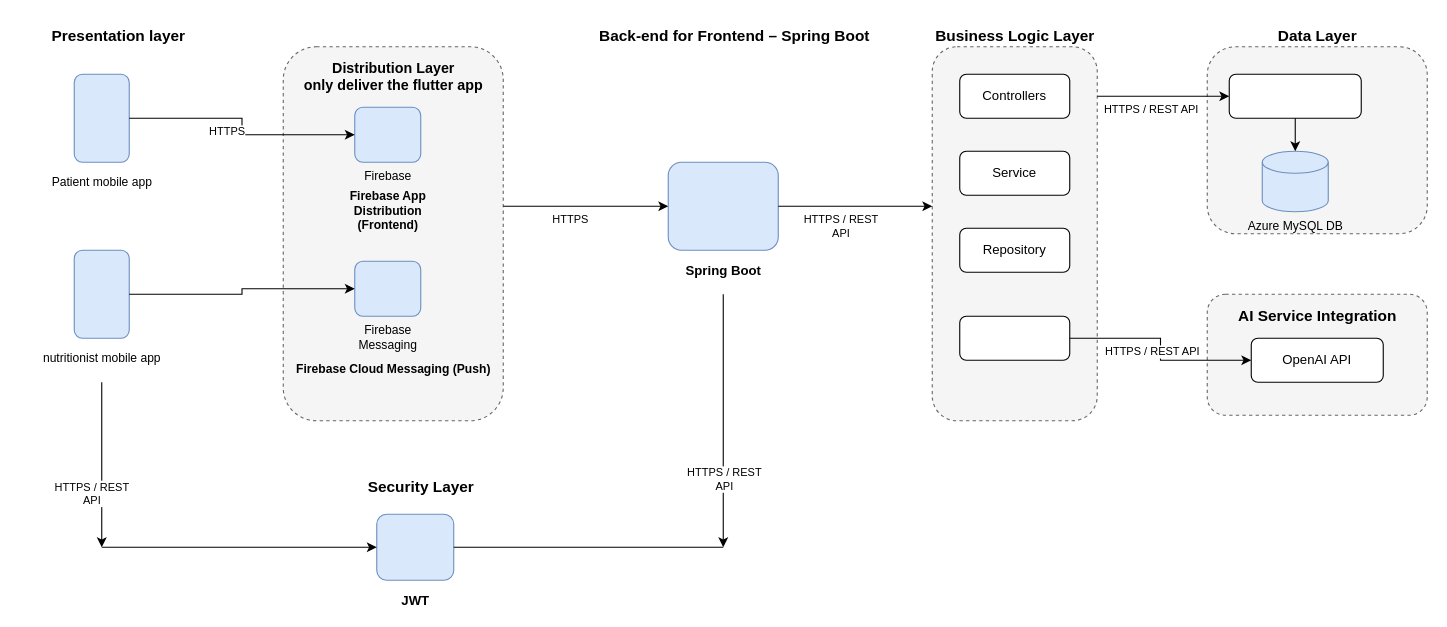
This 1447x627 diagram has some shape labels left out. Here are the shapes that lost their labels. From the top down, the box of each, then its label:
(1228, 73, 1361, 118): DAO / Repository
(959, 315, 1070, 360): Domain / Entities
